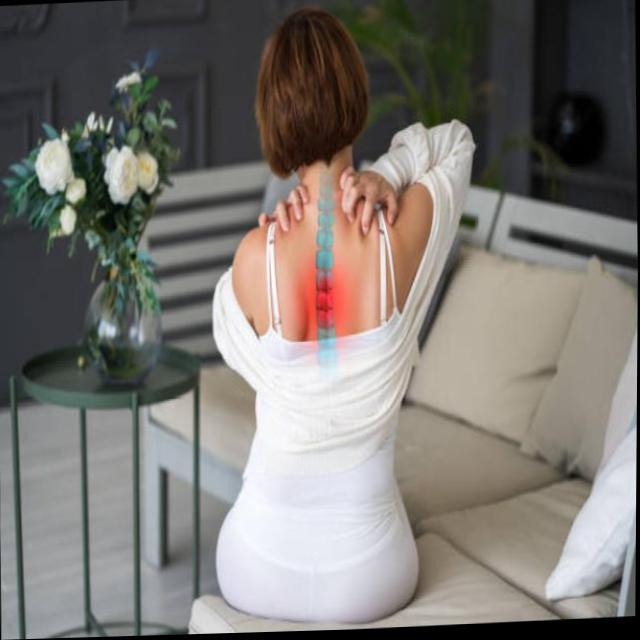no helmet: (233, 7, 377, 182)
